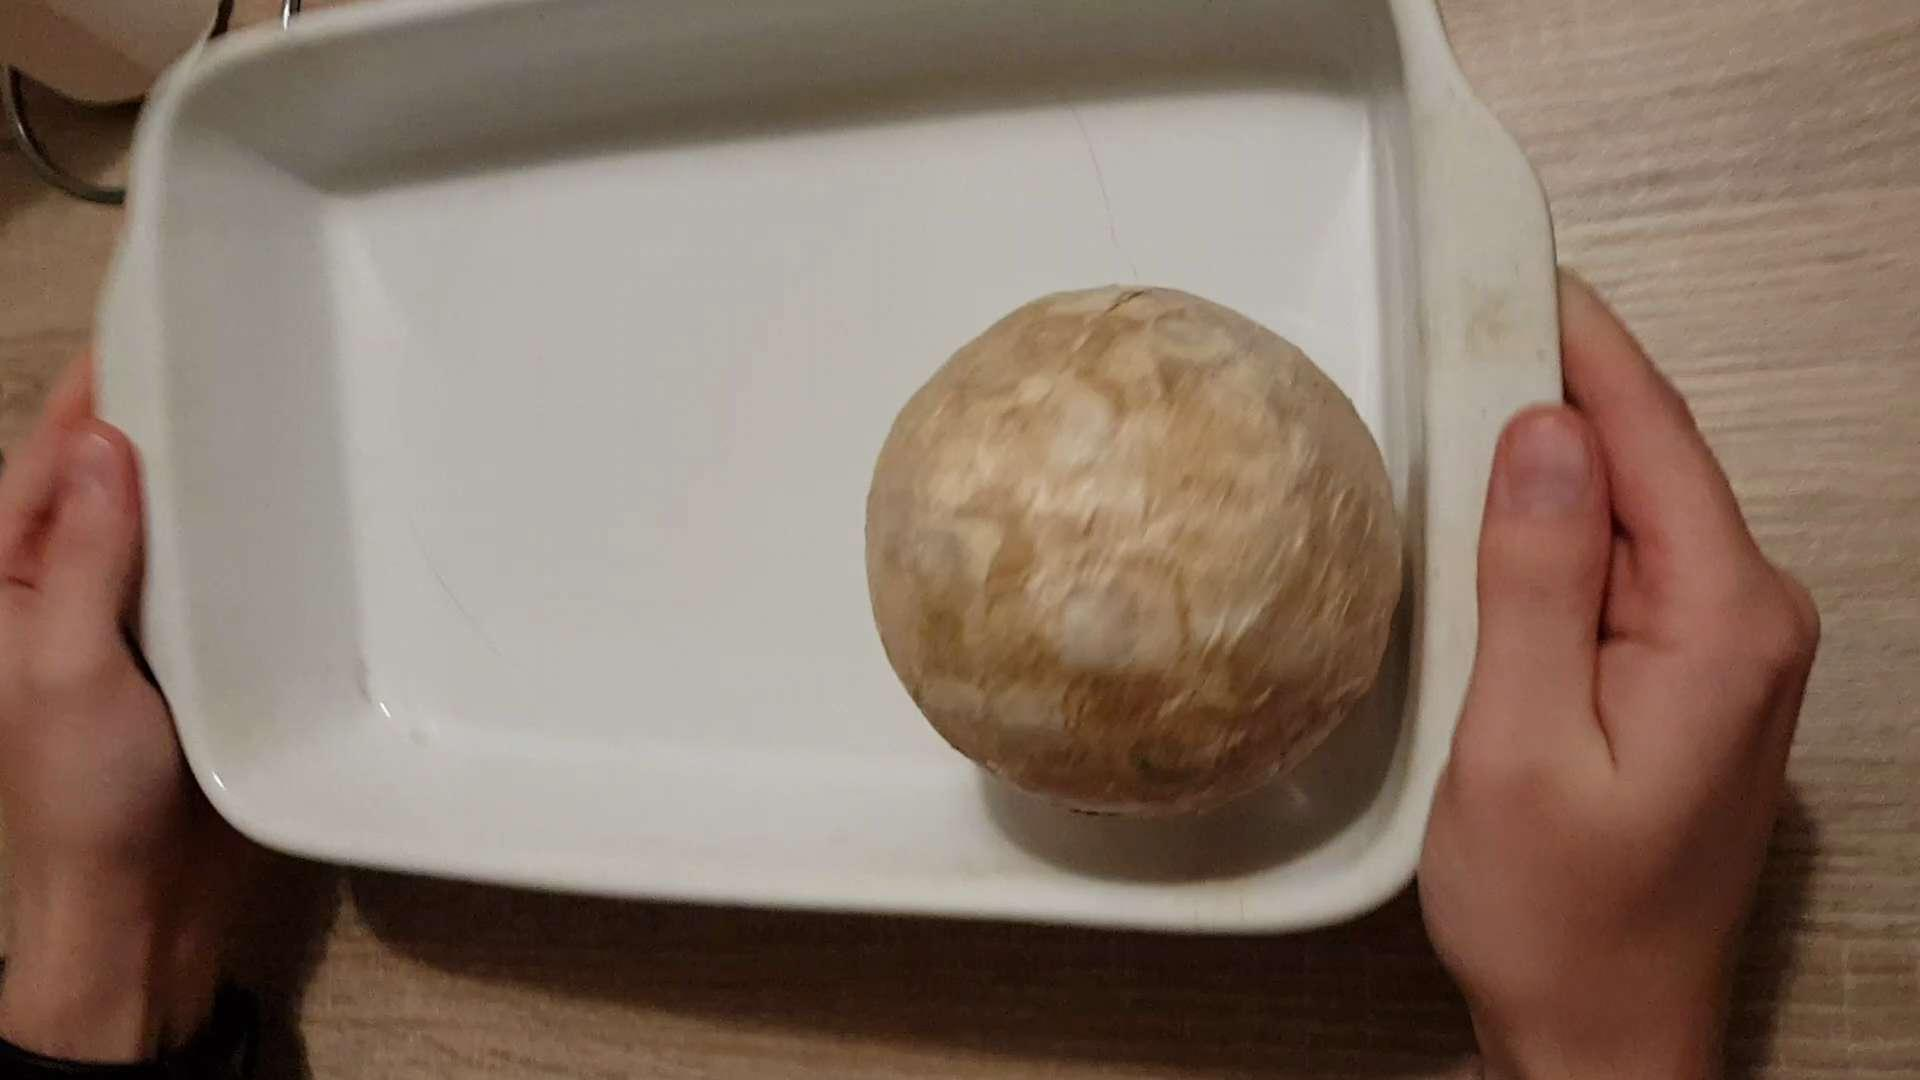sphere: (853, 266, 1412, 818)
